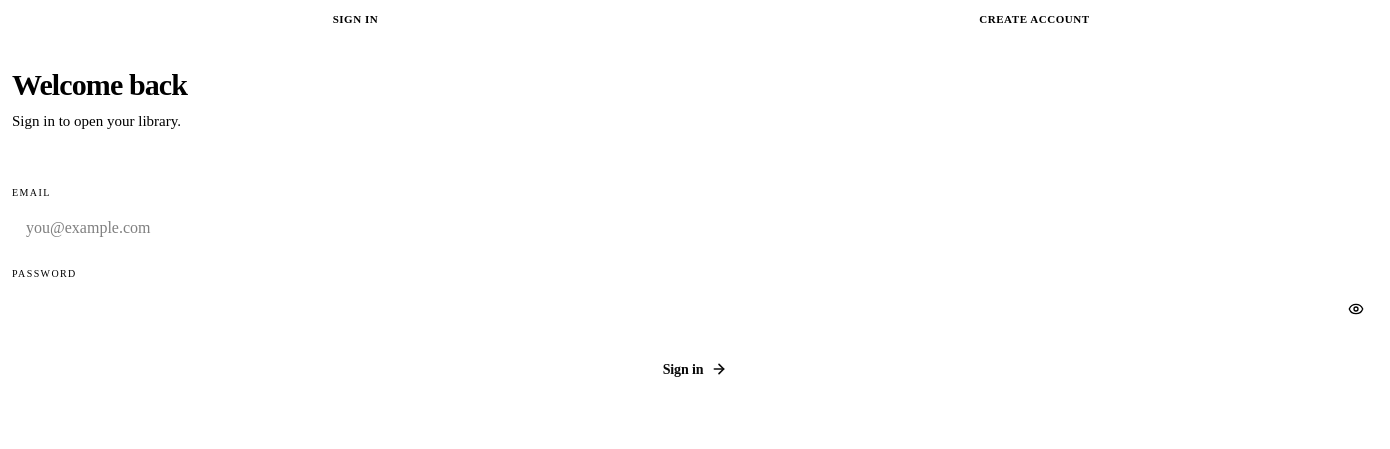
Test: auth forms › submits email and password and exposes provider errors
Type "alice@example.test" into the field labelled "Email" at {"x": 695, "y": 228}, box [12, 206, 1378, 250]
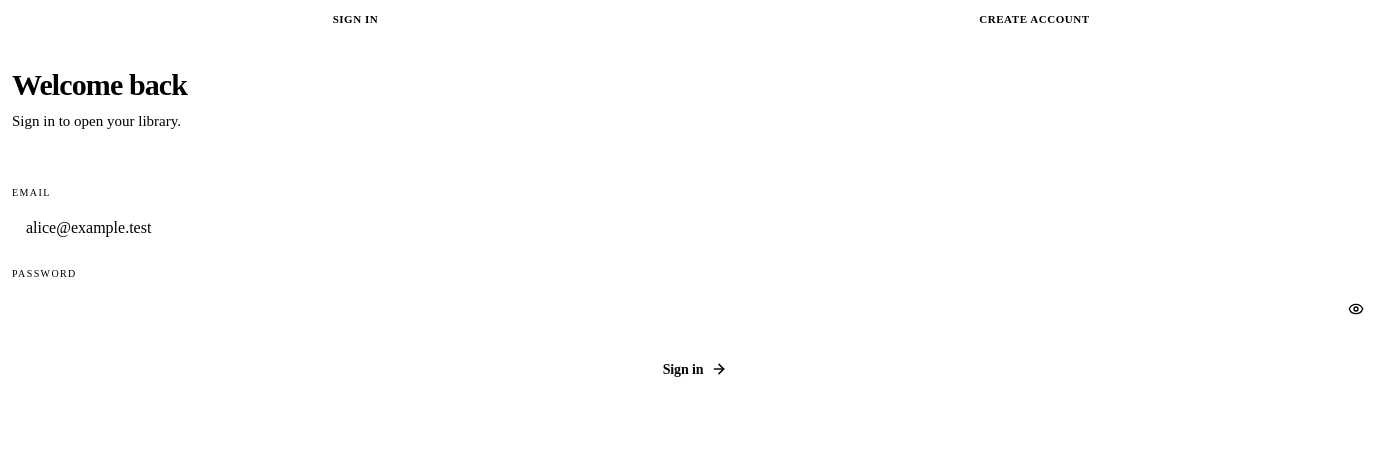
Type "password123" into the password field labelled "Password" at {"x": 695, "y": 309}, box [12, 287, 1378, 331]
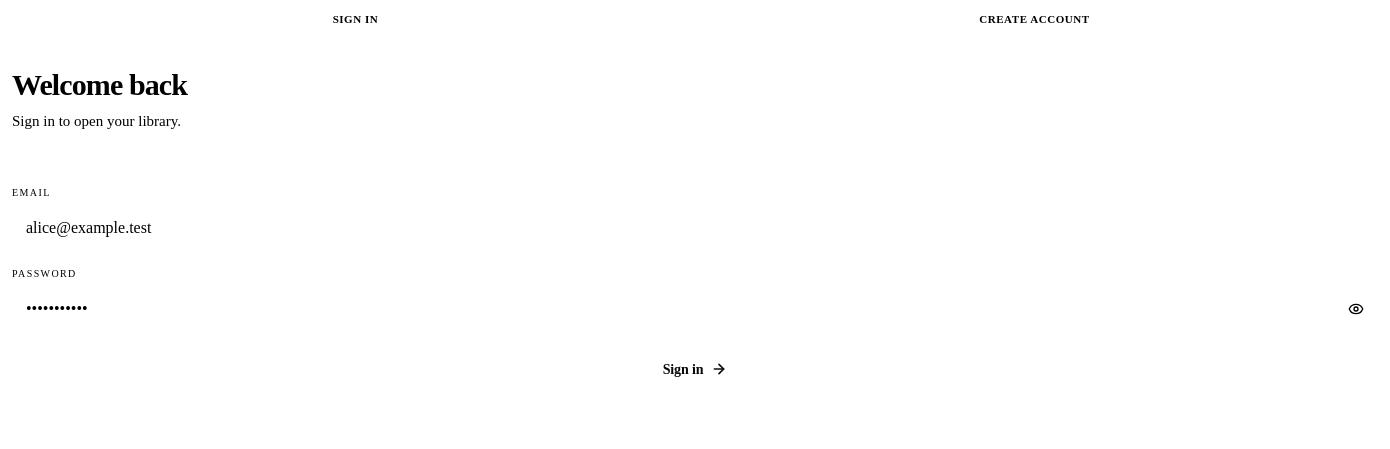
Click the button "Sign in" at {"x": 695, "y": 369}, box [12, 347, 1378, 391]
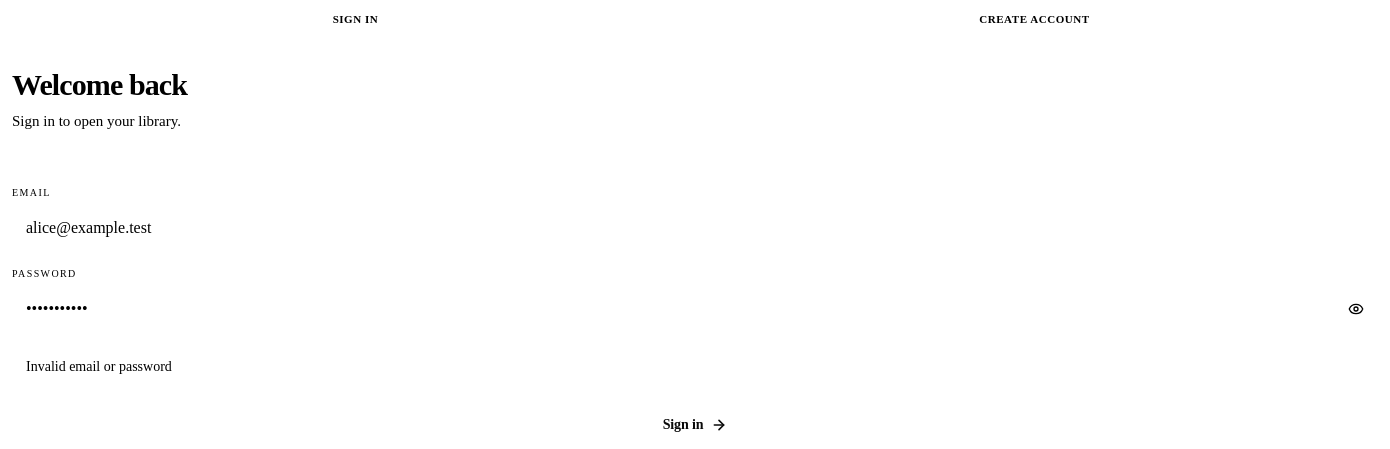
Now the text "Invalid email or password" is shown, box [26, 359, 172, 374]
